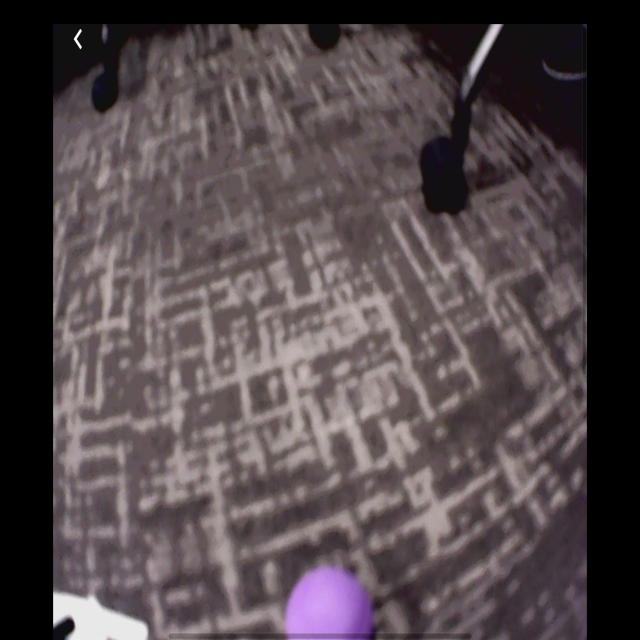ball: (284, 565, 376, 639)
